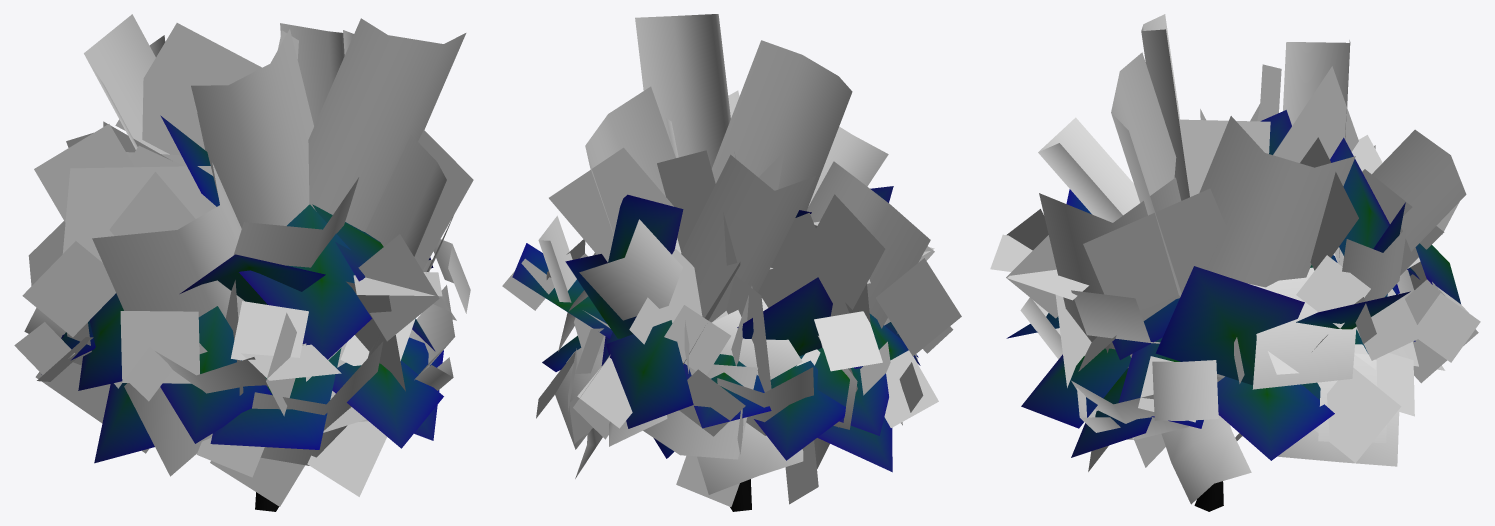
The model's file is bush_a_large.dae.
3 renders of one model, left to right at view 1: azimuth 30°, elevation 25°; view 2: azimuth 150°, elevation 25°; view 3: azimuth 270°, elevation 25°, orthographic. The views are drawn at different scales.
Visible parts, largest first — view 1: bush_a_large; view 2: bush_a_large; view 3: bush_a_large.
Part boxes in pixels (left/top/right/bottom): bush_a_large: left=14, top=14, right=473, bottom=511; bush_a_large: left=502, top=14, right=961, bottom=511; bush_a_large: left=990, top=14, right=1480, bottom=511.
Bounding box in the file's own units: 2.34 × 2.38 × 2.57.
